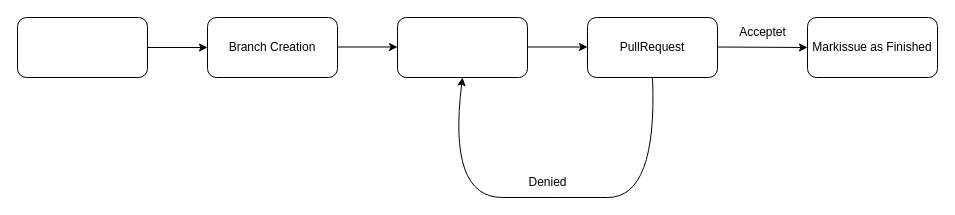
This 955x215 diagram has some shape labels left out. The box of each missing label's shape, as (x1, y1, x2, y2) in pixels:
Development: (396, 16, 528, 78)
Issue Creation: (16, 16, 148, 78)
